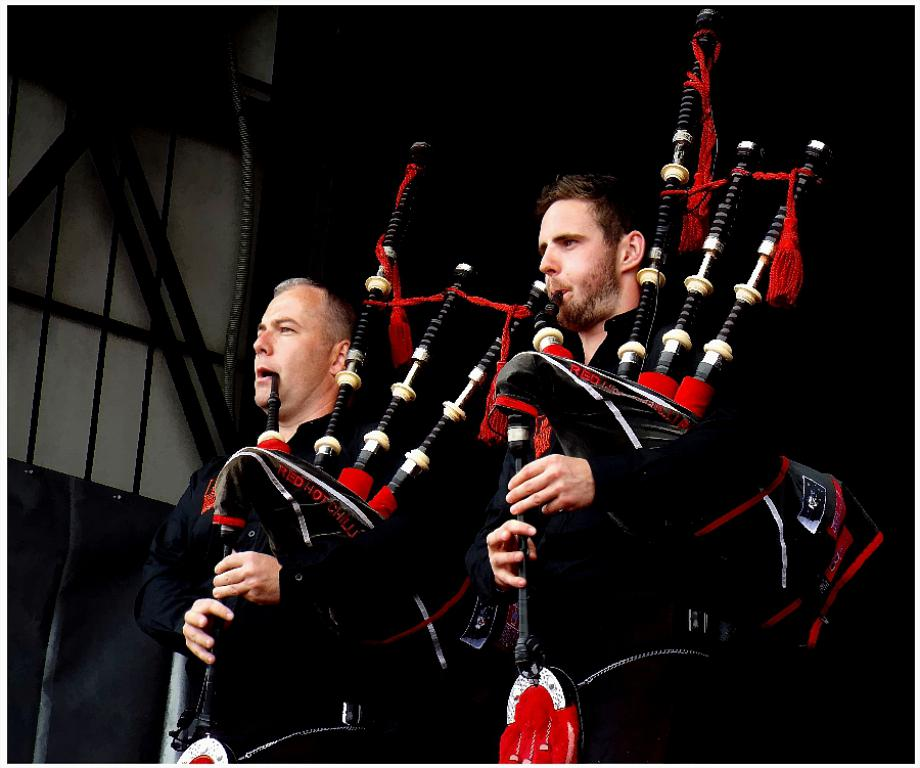Person: (460, 8, 884, 763), (135, 249, 486, 767)
